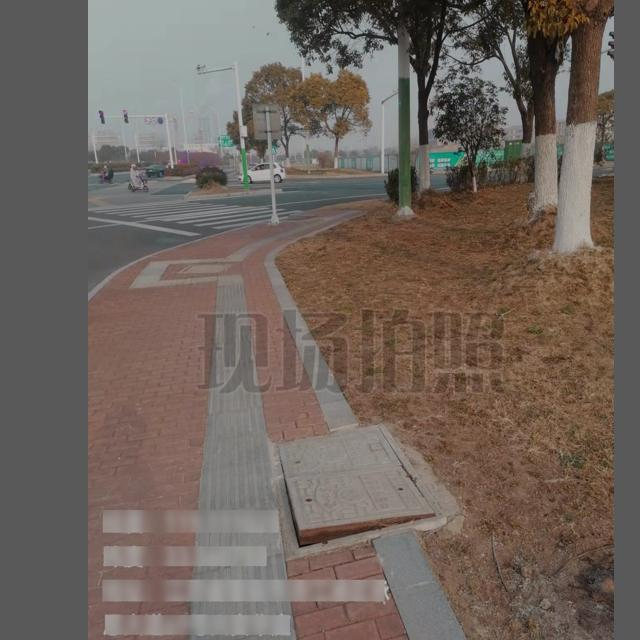uncovered: (268, 419, 442, 560)
